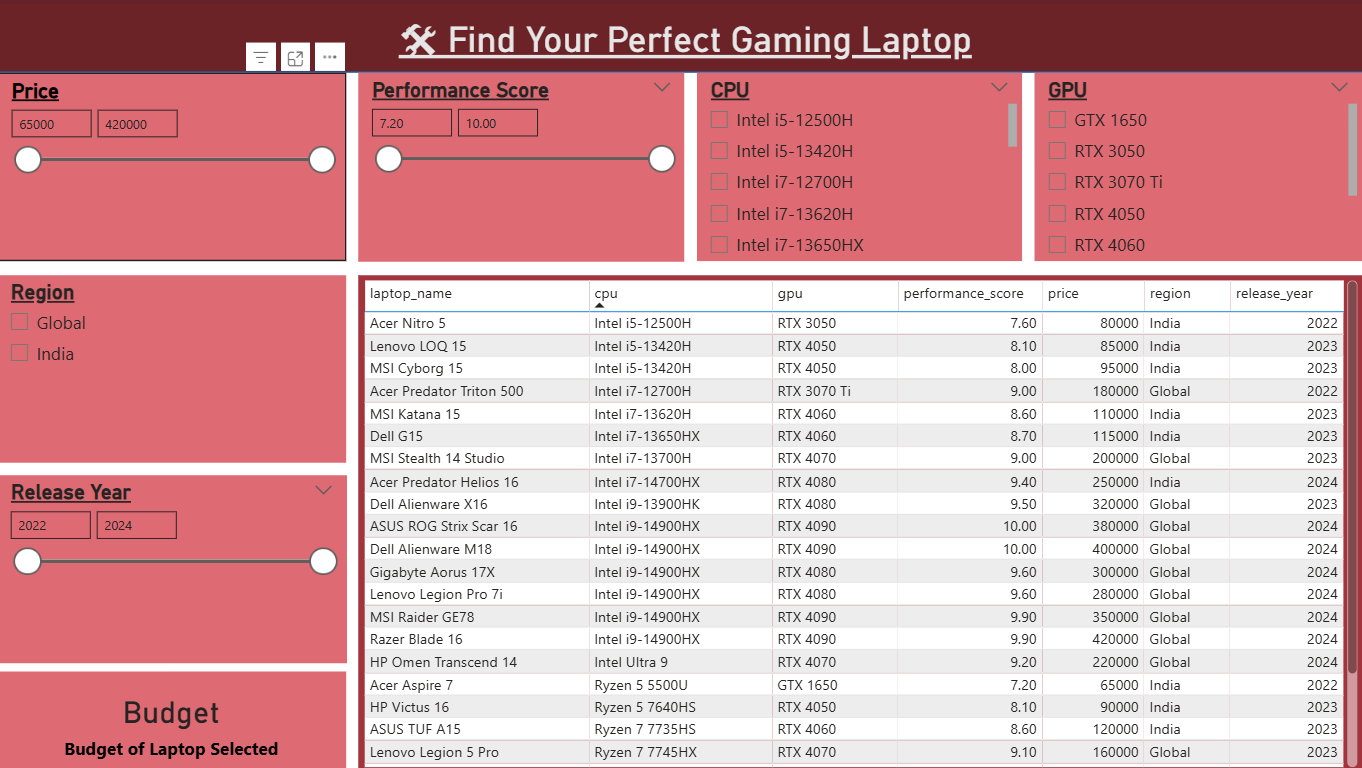

What the dashboard file says about the page in this screenshot:
{"tool":"powerbi","page":{"name":"Find Your Perfect Gaming Laptop","canvas":[1280,720],"ordinal":1},"visuals":[{"type":"shape","box":[0,0,1280,68.4],"z":0},{"type":"slicer","fields":{"Values":["laptop_dashboard.price"]},"box":[0,68.4,324.7,175.4],"z":1},{"type":"slicer","fields":{"Values":["laptop_dashboard.performance_score"]},"box":[335.9,68.4,303.5,175.4],"z":2},{"type":"slicer","fields":{"Values":["laptop_dashboard.gpu"]},"box":[965.3,68.4,304.8,175.4],"z":3},{"type":"slicer","fields":{"Values":["laptop_dashboard.cpu"]},"box":[650.6,68.4,302.3,175.4],"z":4},{"type":"slicer","fields":{"Values":["laptop_dashboard.region"]},"box":[0,257.5,324.7,174.2],"z":5},{"type":"slicer","fields":{"Values":["laptop_dashboard.release_year"]},"box":[0,442.8,324.7,174.2],"z":6},{"type":"tableEx","fields":{"Values":["laptop_dashboard.laptop_name","laptop_dashboard.cpu","laptop_dashboard.gpu","laptop_dashboard.performance_score","laptop_dashboard.price","laptop_dashboard.region","laptop_dashboard.release_year"]},"box":[335.9,257.5,934.2,462.8],"z":7},{"type":"card","fields":{"Values":["Min(laptop_dashboard.price_category)"]},"box":[0,625.7,324.7,94.5],"z":8}]}

Visuals, with their boxes on the page's 1280x720 design canvas (x1, y1, x2, y2). These are canvas units, not pixel positions in the 1362x768 screenshot, which may show the page scaled, cropped or inside an application window:
shape: [x1=0, y1=0, x2=1280, y2=68]
slicer - laptop_dashboard.price: [x1=0, y1=68, x2=325, y2=244]
slicer - laptop_dashboard.performance_score: [x1=336, y1=68, x2=639, y2=244]
slicer - laptop_dashboard.gpu: [x1=965, y1=68, x2=1270, y2=244]
slicer - laptop_dashboard.cpu: [x1=651, y1=68, x2=953, y2=244]
slicer - laptop_dashboard.region: [x1=0, y1=258, x2=325, y2=432]
slicer - laptop_dashboard.release_year: [x1=0, y1=443, x2=325, y2=617]
tableEx - laptop_dashboard.laptop_name x laptop_dashboard.cpu: [x1=336, y1=258, x2=1270, y2=720]
card - Min(laptop_dashboard.price_category): [x1=0, y1=626, x2=325, y2=720]
